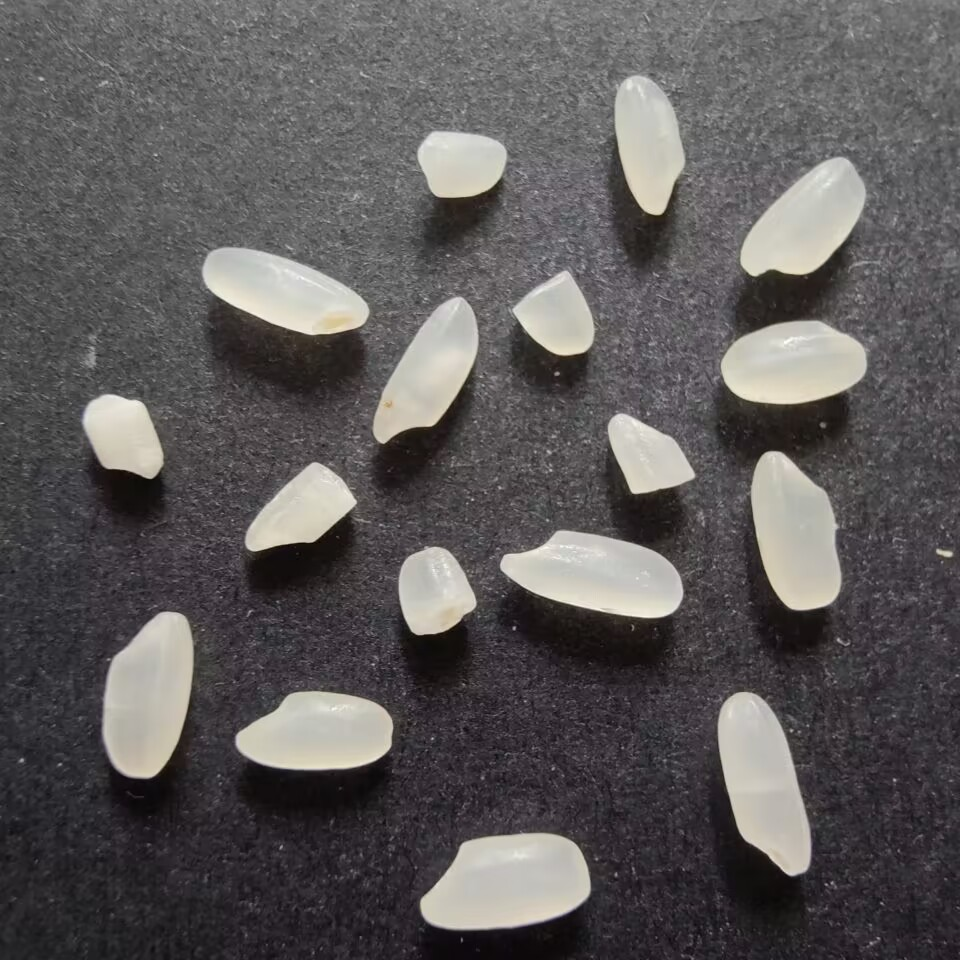broken: (238, 459, 356, 556), (603, 409, 697, 499), (393, 543, 480, 639), (81, 388, 169, 481), (509, 266, 595, 358), (415, 128, 508, 201)
rice: (716, 689, 817, 878), (413, 831, 592, 935), (492, 528, 685, 620), (369, 292, 479, 447), (201, 243, 376, 339), (738, 152, 870, 279), (99, 607, 192, 781), (748, 448, 845, 613), (227, 687, 395, 775), (716, 317, 870, 405), (611, 73, 689, 223)
